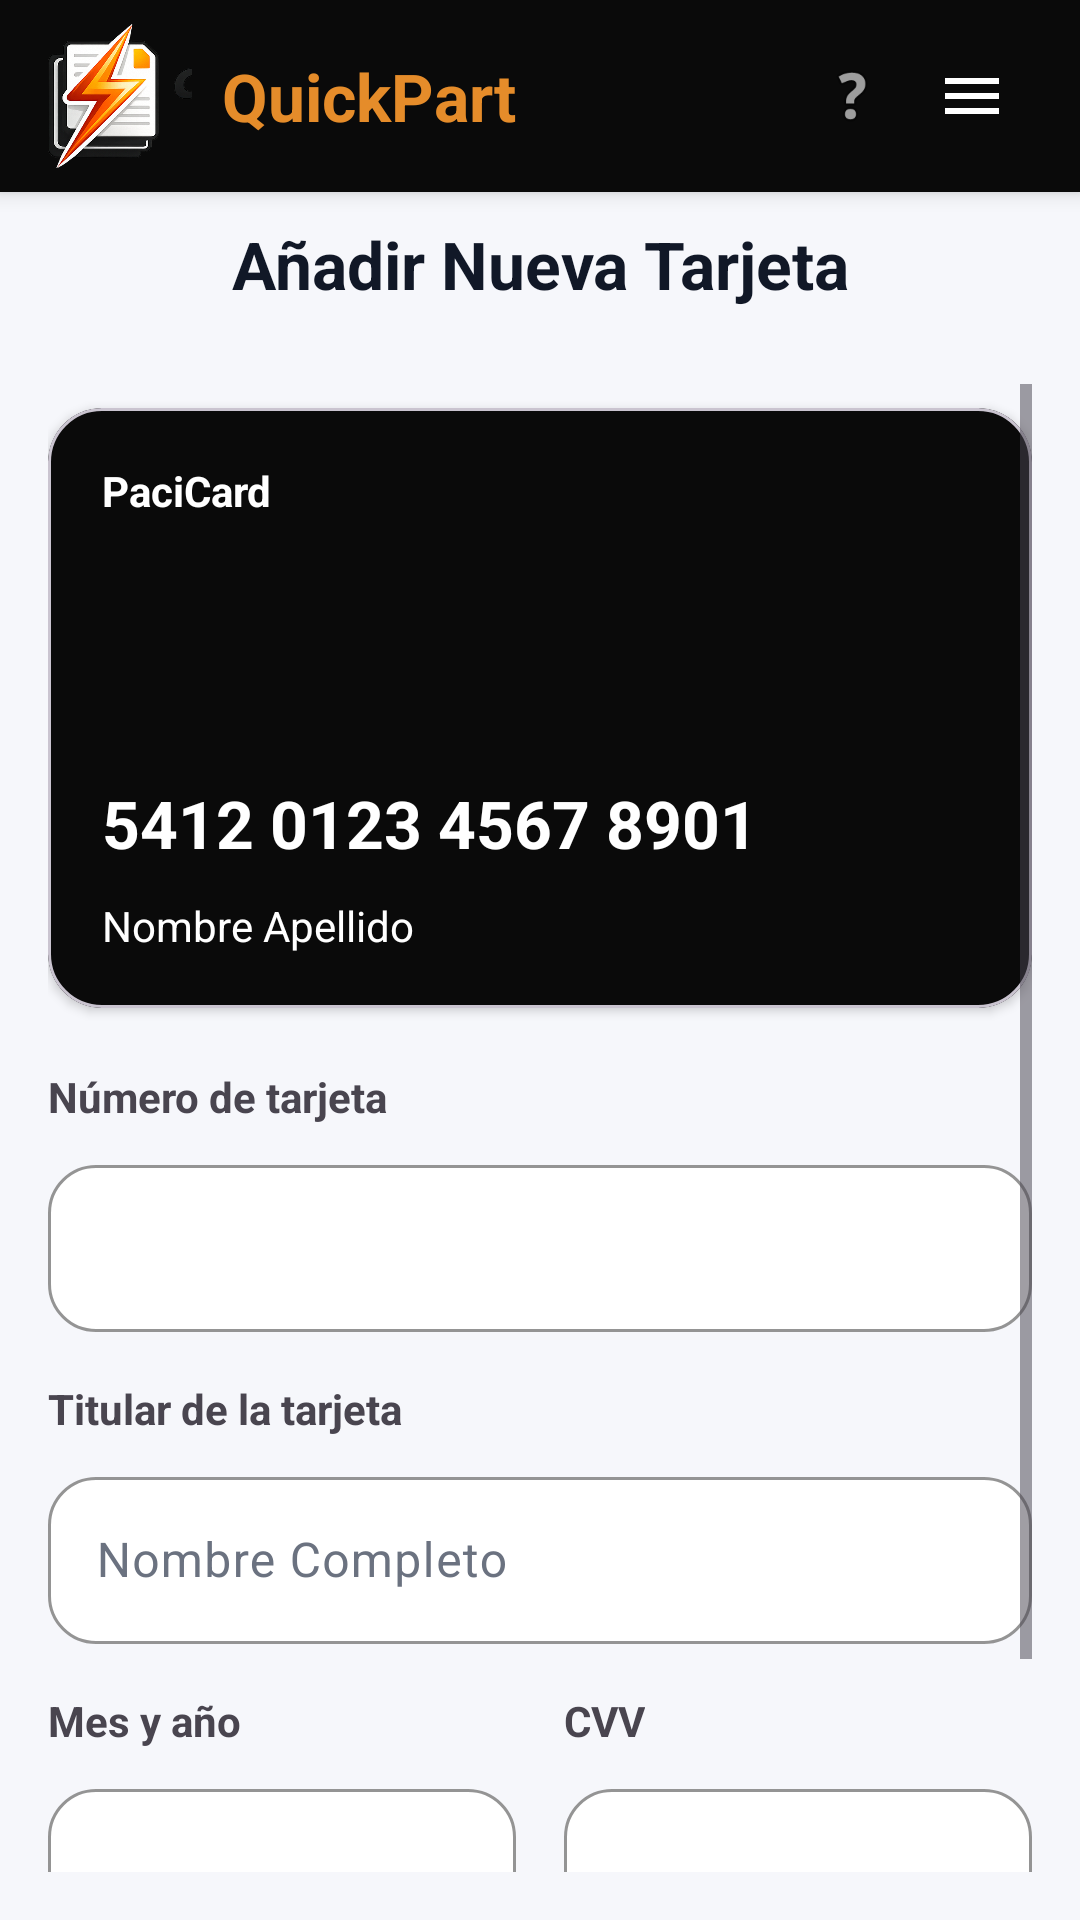

Where icons sit on this 1080px x 1920px app screen, as detection(x1, y1, x2, y2):
Menu: detection(945, 78, 999, 114)
Necesitas Ayuda?: detection(839, 72, 866, 120)
